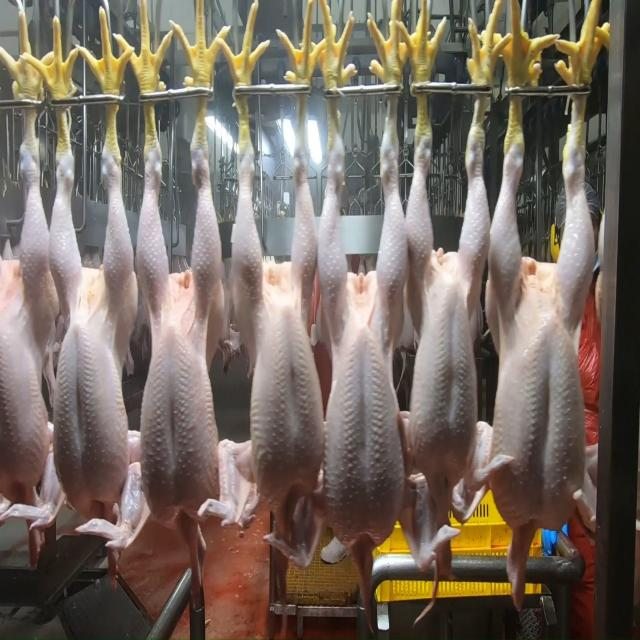chicken: (491, 136, 606, 537), (316, 118, 408, 547), (127, 140, 224, 533), (230, 148, 330, 516), (46, 156, 134, 530), (403, 133, 490, 500), (0, 144, 55, 496)
